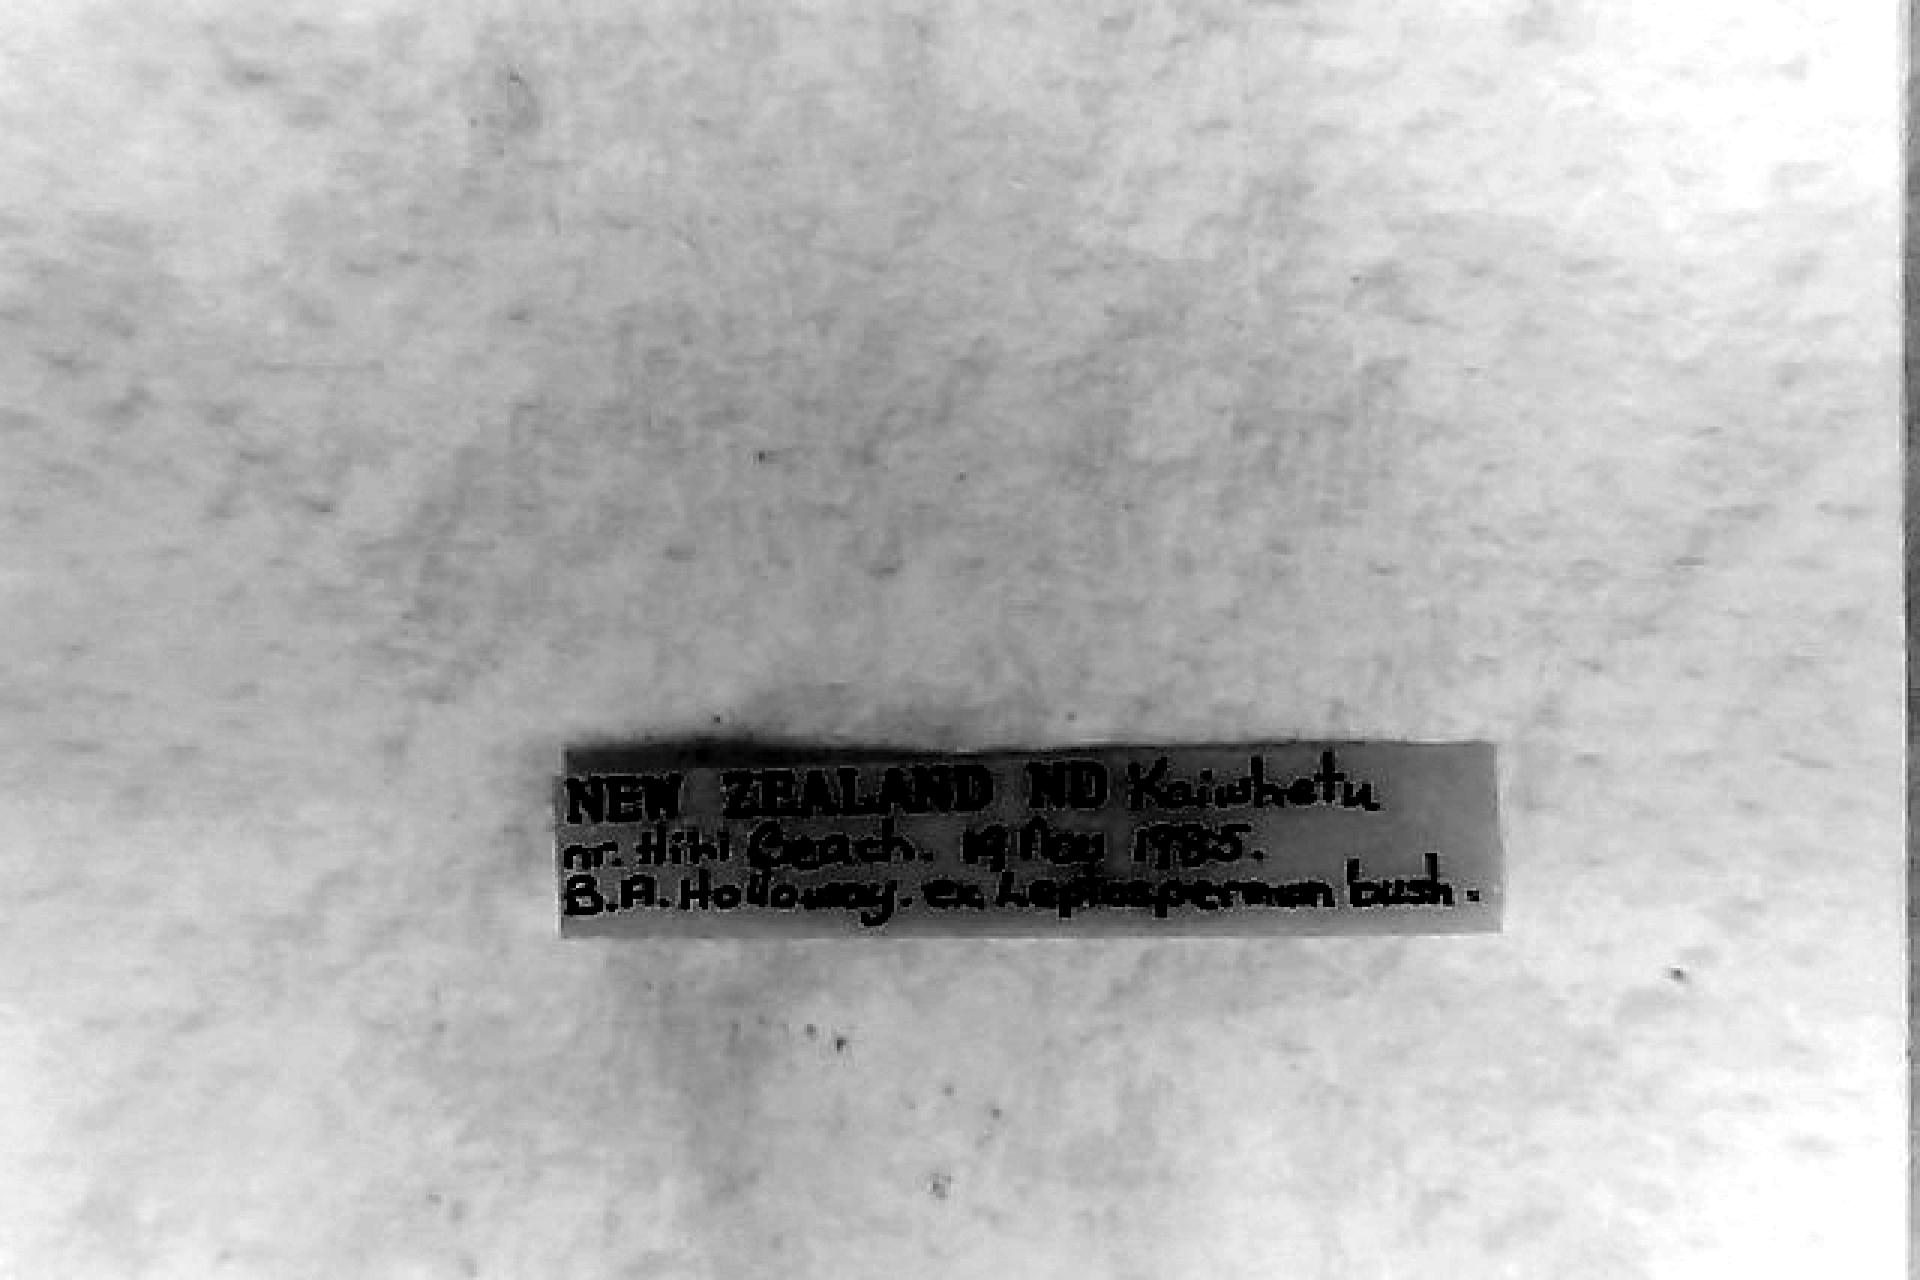mixed_label: (554, 740, 1496, 937)
